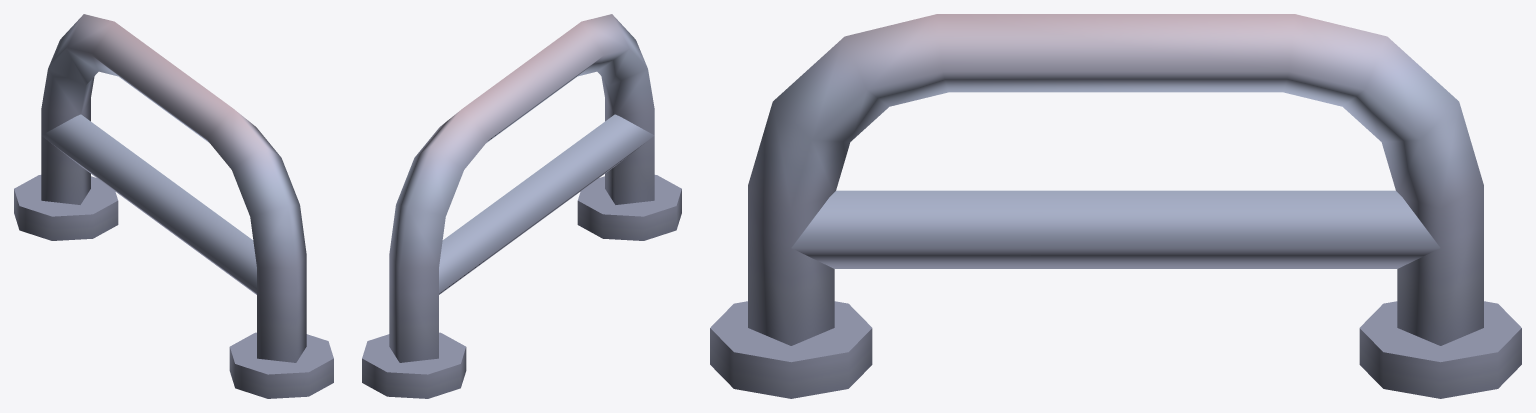
File: road_construction_fence.glb
The picture shows the model from 3 angles, left to right: view 1: azimuth 30°, elevation 25°; view 2: azimuth 150°, elevation 25°; view 3: azimuth 270°, elevation 25°; orthographic projection. The views are drawn at different scales.
Parts seen in each view (by area): view 1: construction-fence; view 2: construction-fence; view 3: construction-fence.
Part boxes in pixels (<box>): construction-fence: <box>14,14,333,398</box>; construction-fence: <box>362,14,681,398</box>; construction-fence: <box>710,14,1521,398</box>.
Bounding box in the file's own units: 0.075 × 0.1787 × 0.375.
1 material, 1 textured.
